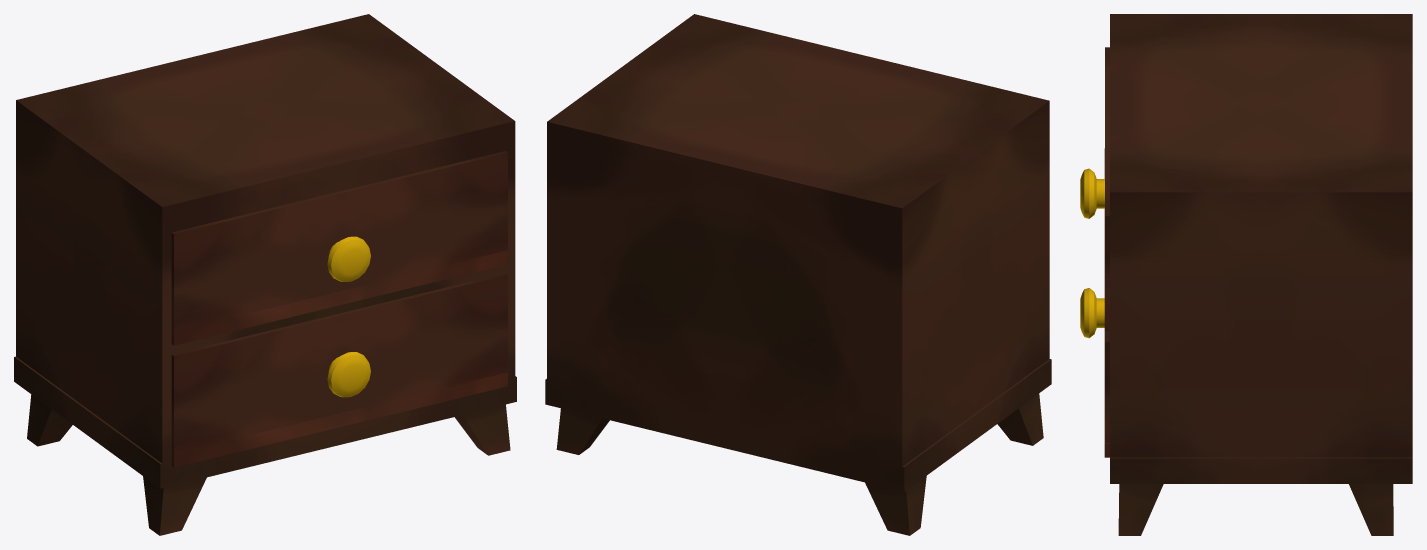
Rendered from Drawer.glb.
The picture shows the model from 3 angles, left to right: view 1: azimuth 30°, elevation 25°; view 2: azimuth 150°, elevation 25°; view 3: azimuth 270°, elevation 25°; orthographic projection. The views are drawn at different scales.
Visible parts, largest first — view 1: Cube, Cube.002, Cube.001, Cylinder, Cylinder.001; view 2: Cube; view 3: Cube, Cube.002, Cylinder, Cylinder.001, Cube.001.
Boxes of the visible parts, <box> form: Cube: <box>14,14,516,535</box>; Cube.002: <box>171,151,507,345</box>; Cube.001: <box>171,273,507,467</box>; Cylinder: <box>327,352,370,397</box>; Cylinder.001: <box>327,236,370,281</box>; Cube: <box>545,14,1051,535</box>; Cube: <box>1110,14,1412,535</box>; Cube.002: <box>1104,47,1109,331</box>; Cylinder: <box>1080,288,1104,338</box>; Cylinder.001: <box>1080,168,1104,218</box>; Cube.001: <box>1104,331,1109,457</box>.
Size of the model in its own units: 1.47 by 1.31 by 1.15.
3 materials, 2 textured.
